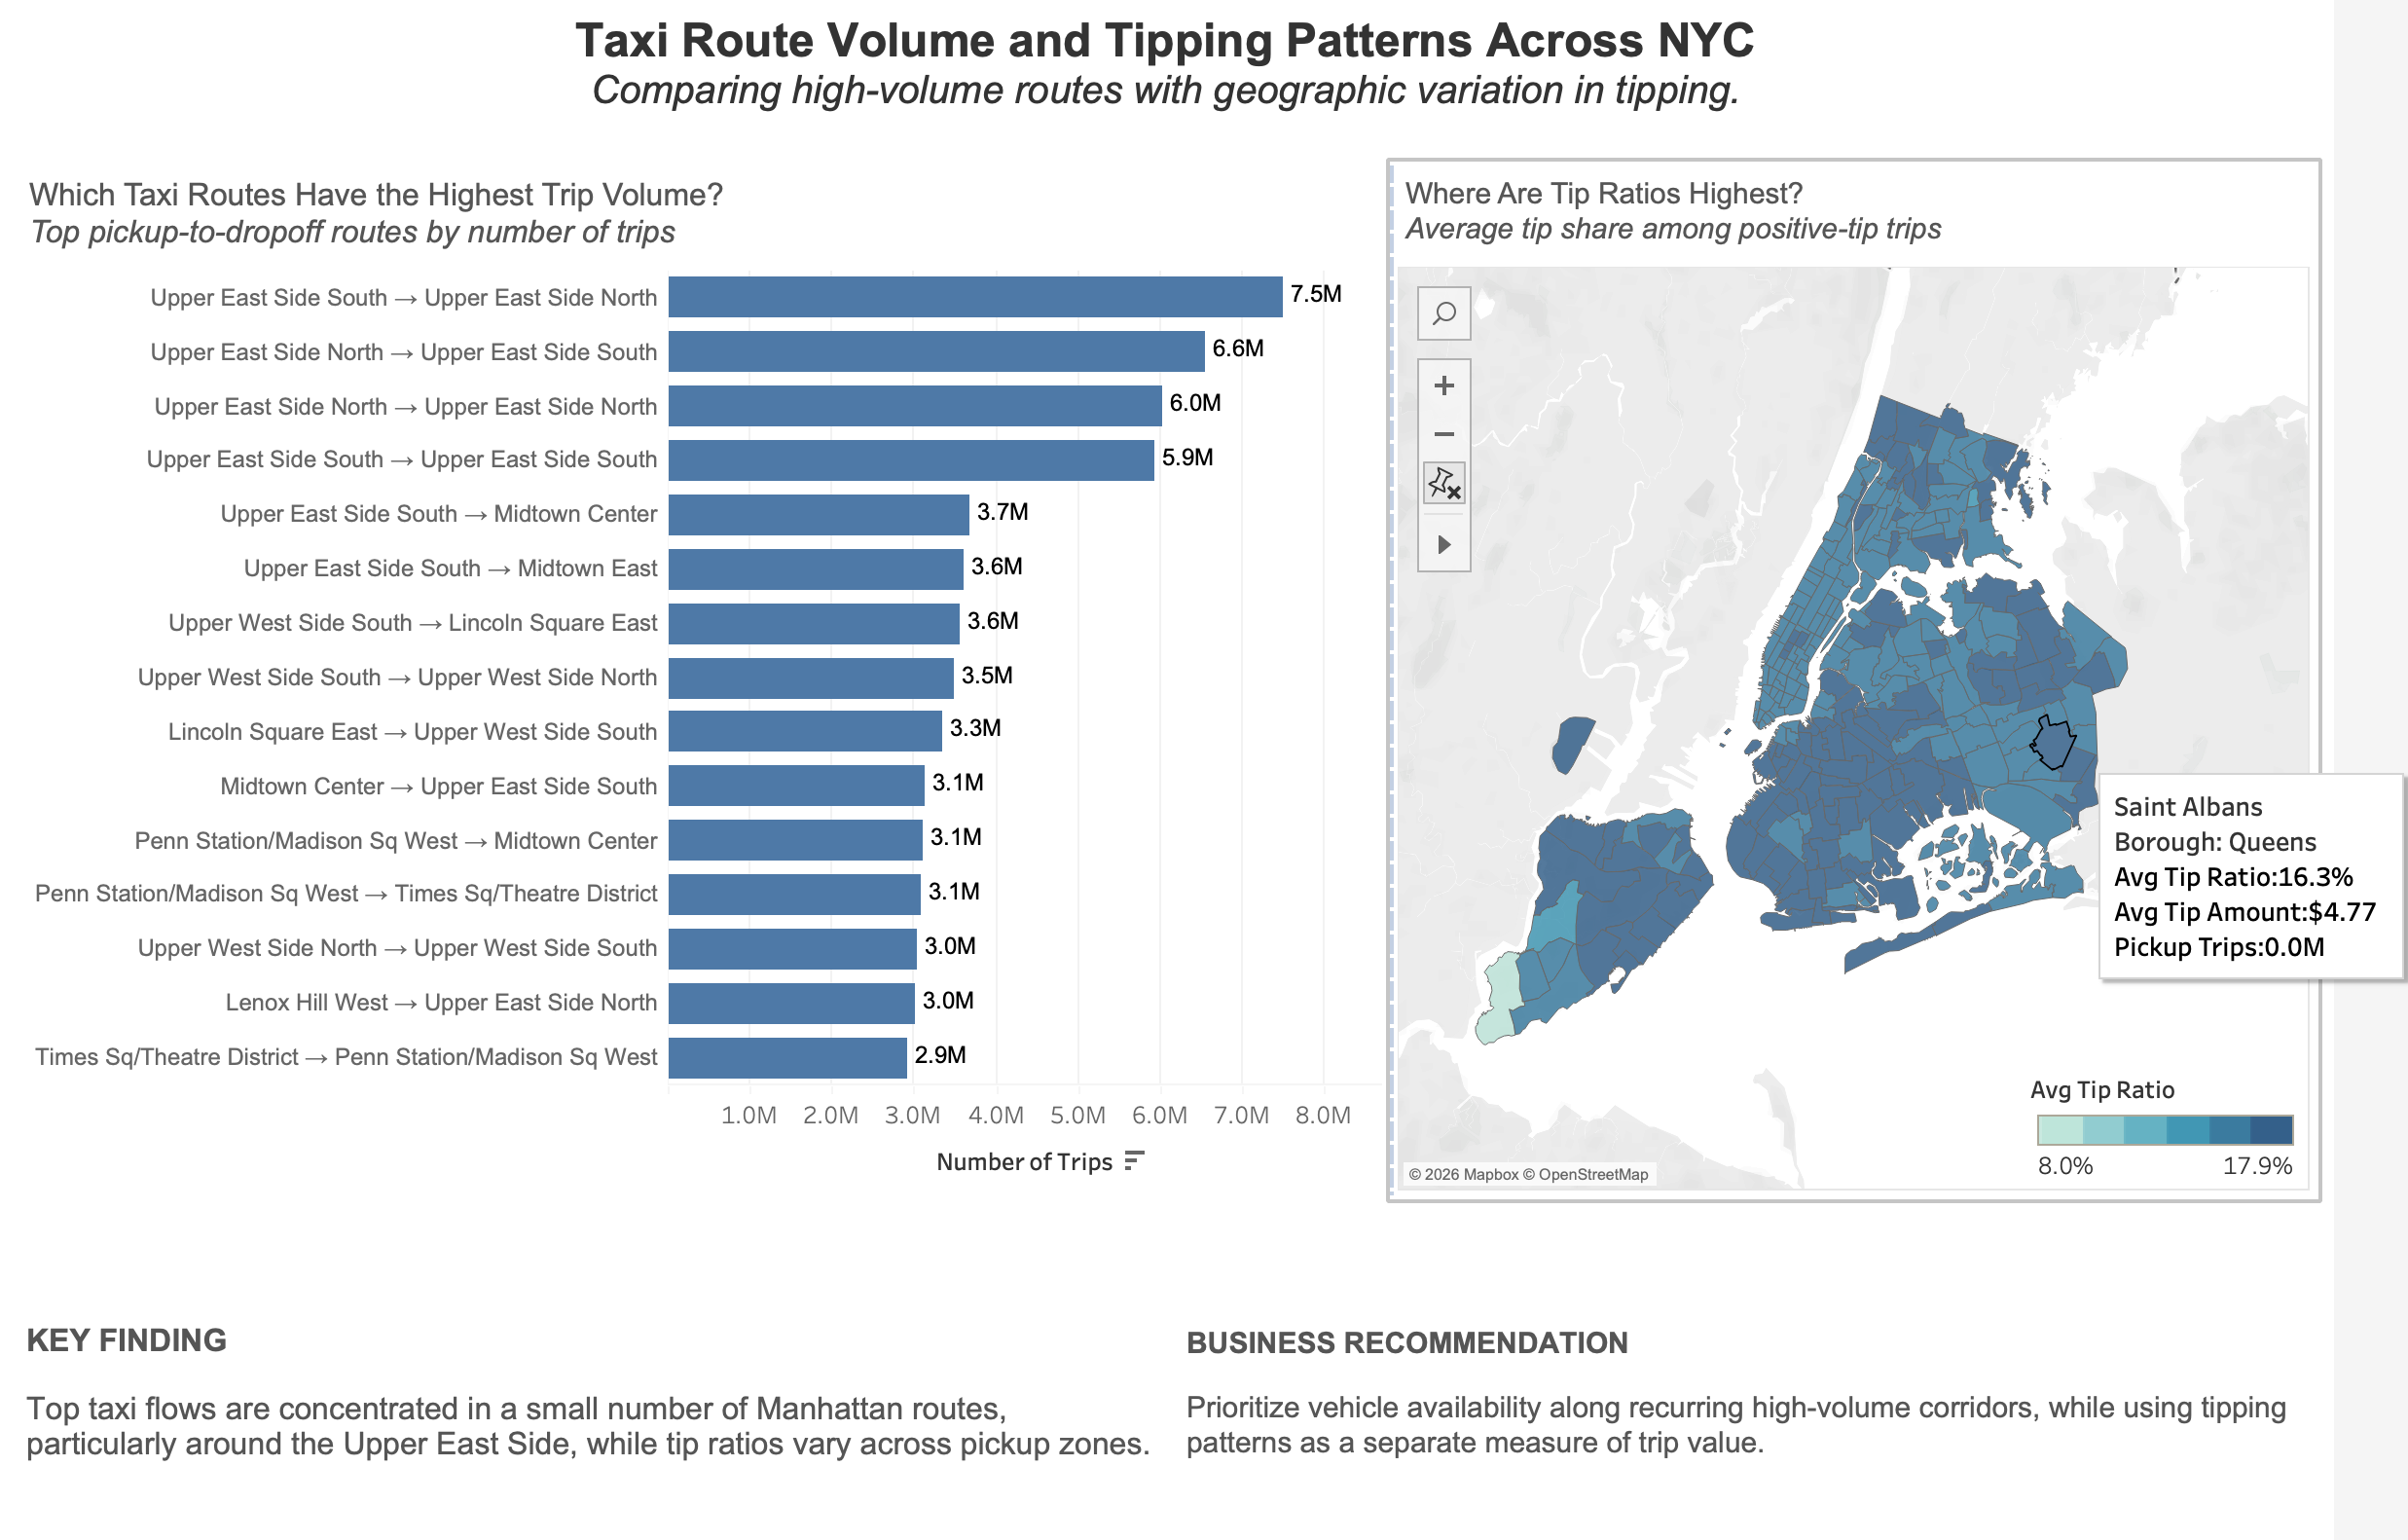

This screenshot's page, from the dashboard's own definition file:
{"tool":"tableau","page":{"name":"Dashboard 3","canvas":[1000,1000],"units":"permille","ordinal":2},"visuals":[{"type":"text","box":[6.7,10,986.7,73.8]},{"type":"worksheet","title":"Top Pickup → Dropoff Routes","mark":"Automatic","rows":["Calculation_5847448885903362"],"cols":["trips"],"box":[6.7,110,589.2,638.8]},{"type":"worksheet","title":"Tip Ratio by Pickup Zone","mark":"Automatic","box":[595.8,110,397.5,638.8]},{"type":"legend","title":"Tip Ratio by Pickup Zone","param":"[federated.0h65veg0lk4j0t18wsox91rkox0z].[avg:avg_tip_fare:qk]","box":[870,670.7,116.7,67.5]},{"type":"text","box":[6.7,748.9,496.7,241.1]},{"type":"text","box":[503.3,748.9,490,241.1]}]}

Visuals, with their boxes on the dashboard's canvas, which has no fixed pixel size, in thousandths of its width and height (x1, y1, x2, y2). These are canvas units, not pixel positions in the 2408x1540 screenshot, which may show the page scaled, cropped or inside an application window:
text: bbox(7, 10, 993, 84)
"Top Pickup → Dropoff Routes" worksheet: bbox(7, 110, 596, 749)
"Tip Ratio by Pickup Zone" worksheet: bbox(596, 110, 993, 749)
"Tip Ratio by Pickup Zone" legend: bbox(870, 671, 987, 738)
text: bbox(7, 749, 503, 990)
text: bbox(503, 749, 993, 990)
